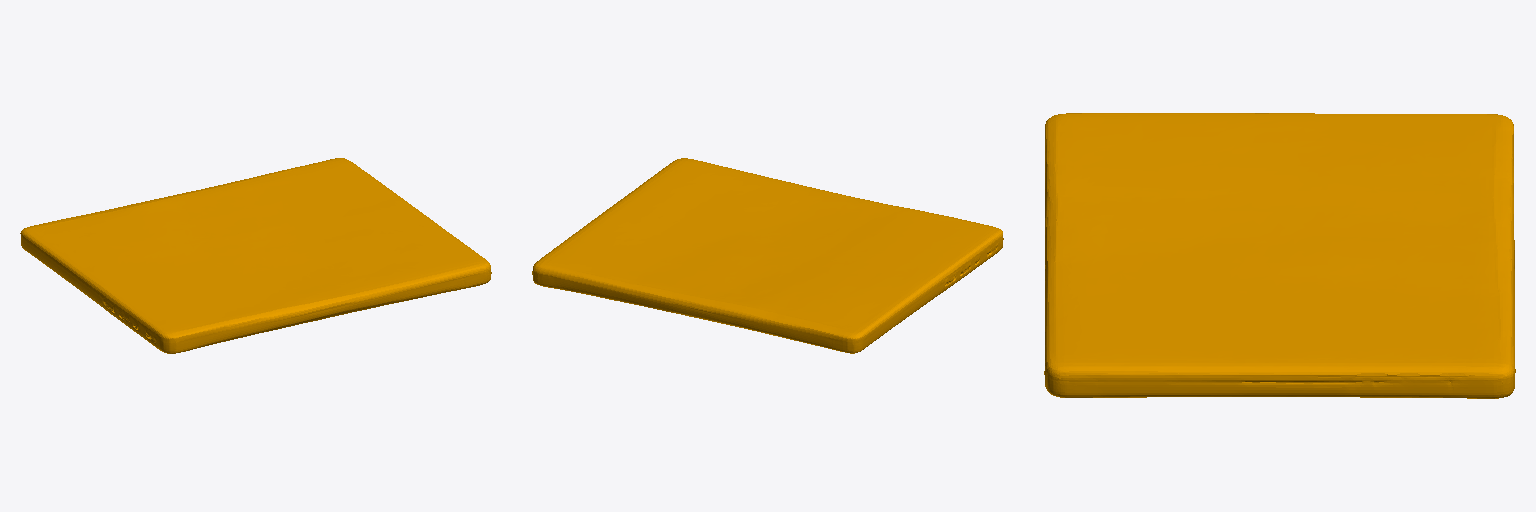
The robot description file, URDF, robot "sample":
<?xml version="1.0" ?>
<robot name="sample">
   <link name="sample">
      <visual>
         <origin xyz="0 0 0" rpy="1.5708 0.0 0.0"/>
         <geometry>
            <mesh filename="mesh/sample.obj" scale="1.0 1.0 1.0"/>
         </geometry>
      </visual>
      <collision>
         <origin xyz="0 0 0" rpy="1.5708 0.0 0.0"/>
         <geometry>
            <mesh filename="mesh/sample_collision.obj" scale="1.0 1.0 1.0"/>
         </geometry>
         <gazebo>
            <mu1>0.60</mu1>
            <mu2>0.50</mu2>
         </gazebo>
      </collision>
      <inertial>
         <mass value="1.6000"/>
         <origin xyz="0 0 0"/>
         <inertia ixx="1.0" ixy="0.0" ixz="0.0" iyy="1.0" iyz="0.0" izz="1.0"/>
      </inertial>
      <extra_info>
         <scale>0.263582</scale>
         <version>v0.1.7</version>
         <category>laptop</category>
         <description>slim silver laptop with ports on side</description>
         <min_height>0.018</min_height>
         <max_height>0.025</max_height>
         <real_height>0.0215</real_height>
         <min_mass>1.2</min_mass>
         <max_mass>2.0</max_mass>
         <generate_time>20260401100900</generate_time>
         <gs_model>mesh/sample_gs.ply</gs_model>
      </extra_info>
   </link>
   <custom_data>
      <quality>
         <MeshGeoChecker>NO: object appears incomplete, lacks top/bottom surfaces, missing structural details.</MeshGeoChecker>
         <ImageSegChecker>NO, object is not fully extracted, background remnants present, and edges are jagged and incomplete.</ImageSegChecker>
         <ImageAestheticChecker>4.9539631605148315</ImageAestheticChecker>
         <overall>NO</overall>
      </quality>
   </custom_data>
</robot>

--- What the picture shows (computed from the rendered views, not written in the file) ---
The picture shows the robot from 3 angles, left to right: view 1: azimuth 30°, elevation 25°; view 2: azimuth 150°, elevation 25°; view 3: azimuth 270°, elevation 25°; orthographic projection.
Robot: sample — 1 links, 0 joints (none); root link sample; default pose: every joint at zero.
Links seen in each view (by area): view 1: sample; view 2: sample; view 3: sample.
Link boxes in pixels (x1,y1,x2,y2): sample: (20,158,491,353); sample: (532,158,1003,353); sample: (1044,113,1515,398).
Size in the robot's own frame: 0.2636 by 0.2097 by 0.0215 metres.
Meshes: 1 distinct files referenced, 1 mesh visuals loaded (1 OBJ).
